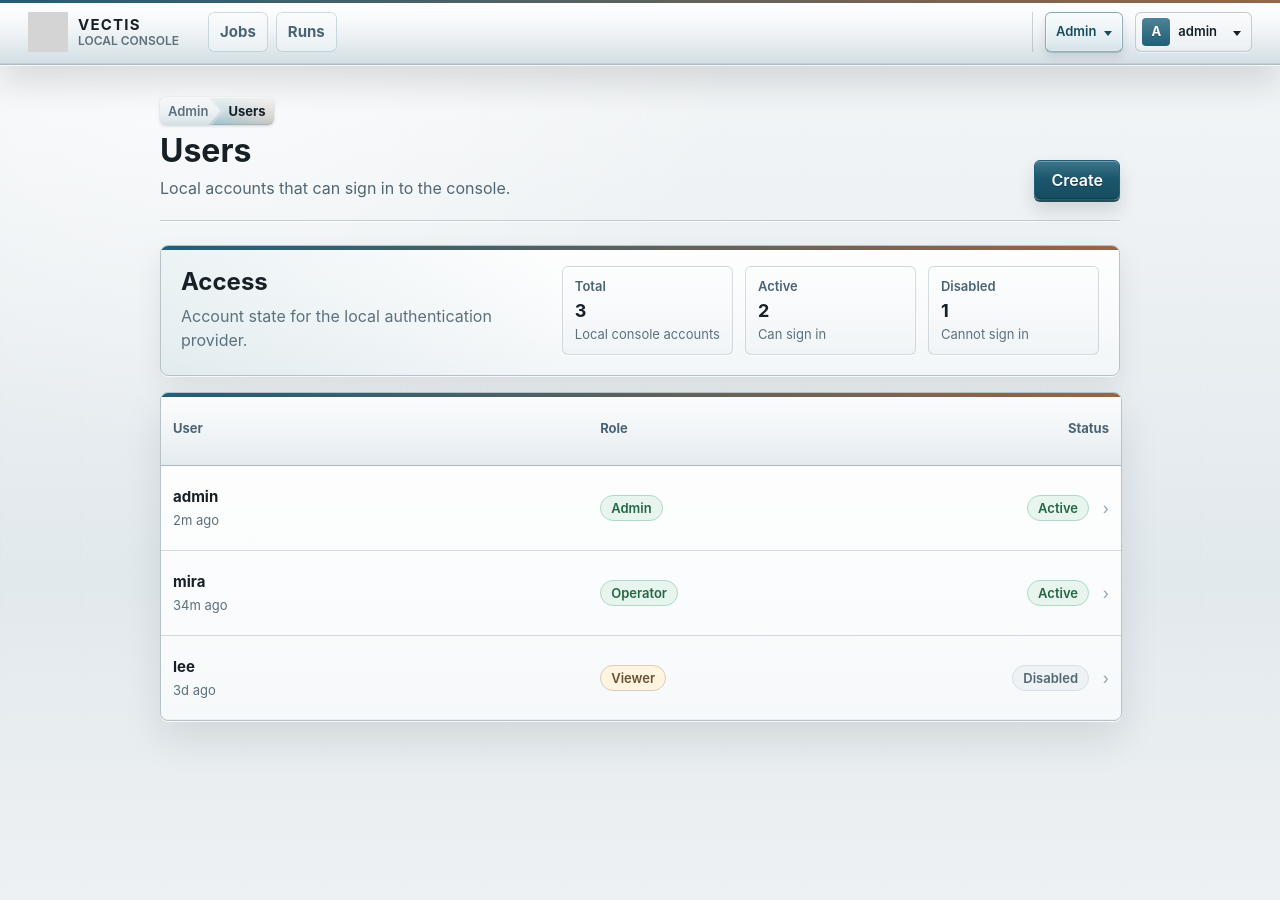
Test case: App › opens and exits user detail routes
The image size is (1280, 900).
Check: the heading "Users" is shown, box x1=160 y1=131 x2=251 y2=170
Click the button with aria-label "View mira" at (641, 593), box x1=161 y1=551 x2=1121 y2=636
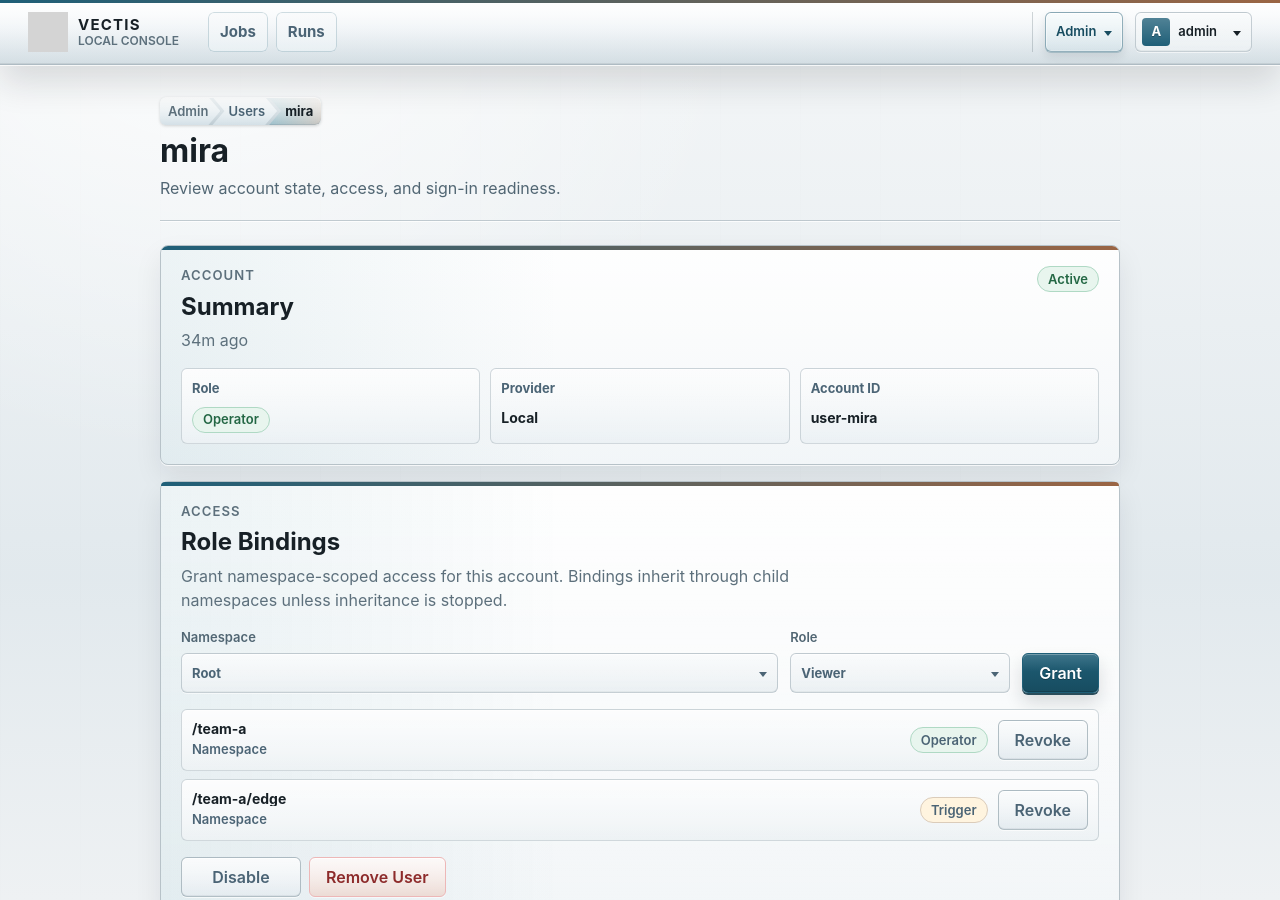
Check: the heading "mira" is shown, box x1=160 y1=131 x2=229 y2=170
Click the button "Users" at (245, 111), box x1=212 y1=97 x2=277 y2=125
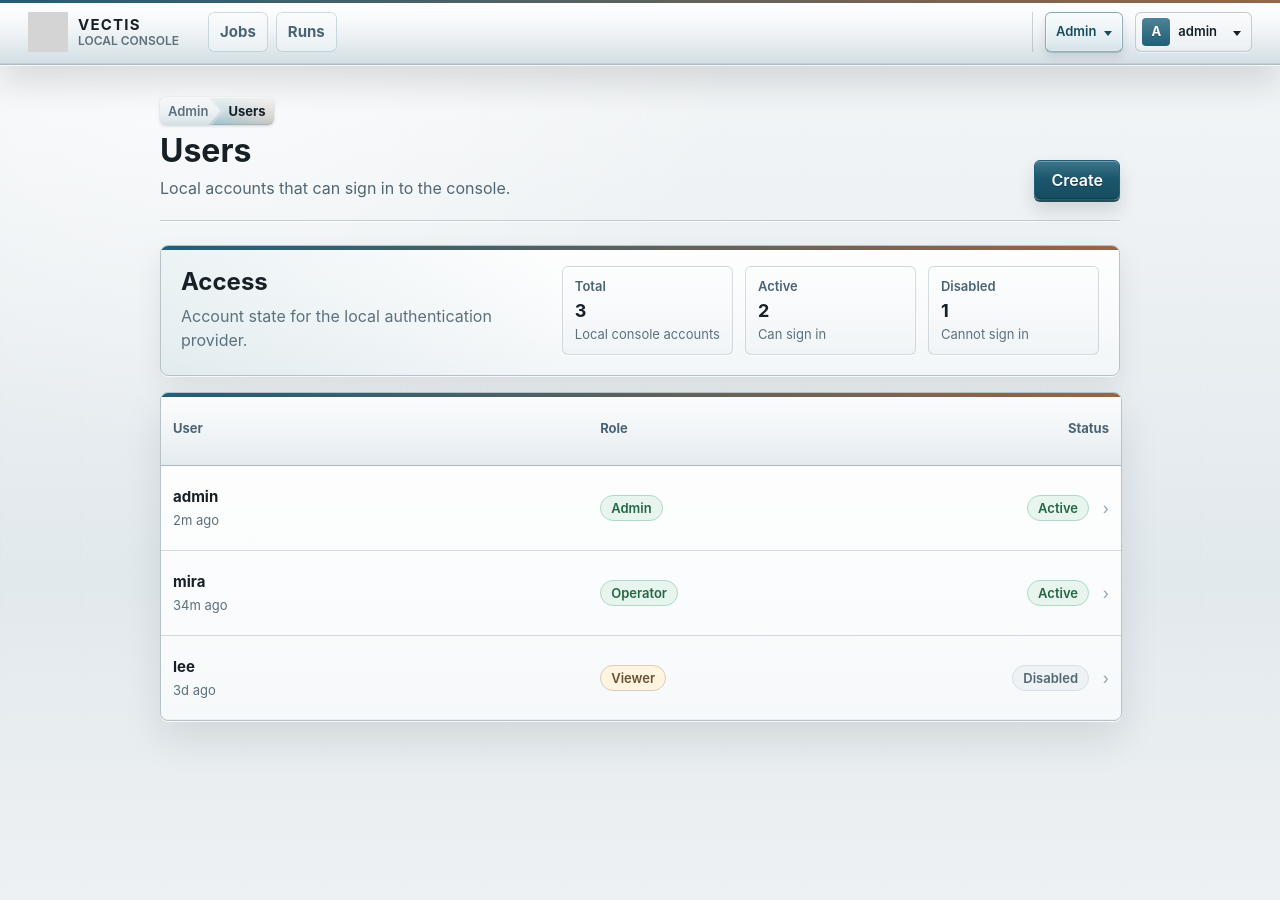
Check: the heading "Users" is shown, box x1=160 y1=131 x2=251 y2=170
